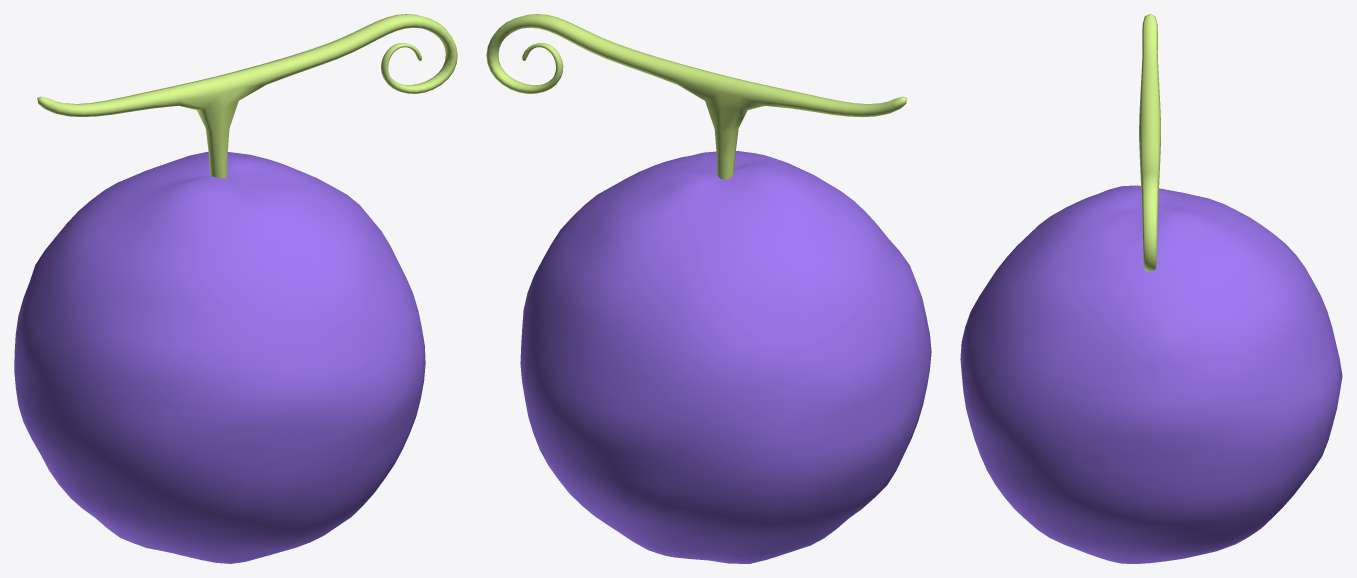
Rendered from gomu_gomu_no_mi.obj.
The picture shows the model from 3 angles, left to right: view 1: azimuth 30°, elevation 25°; view 2: azimuth 150°, elevation 25°; view 3: azimuth 270°, elevation 25°; orthographic projection. The views are drawn at different scales.
Visible parts, largest first — view 1: Gomu_Gomu_From_ZBrush:pCube2; view 2: Gomu_Gomu_From_ZBrush:pCube2; view 3: Gomu_Gomu_From_ZBrush:pCube2.
Part boxes in pixels (<box>): Gomu_Gomu_From_ZBrush:pCube2: <box>14,14,457,563</box>; Gomu_Gomu_From_ZBrush:pCube2: <box>486,14,931,563</box>; Gomu_Gomu_From_ZBrush:pCube2: <box>960,14,1342,563</box>.
Bounding box in the file's own units: 0.0287 × 0.0324 × 0.0246.
